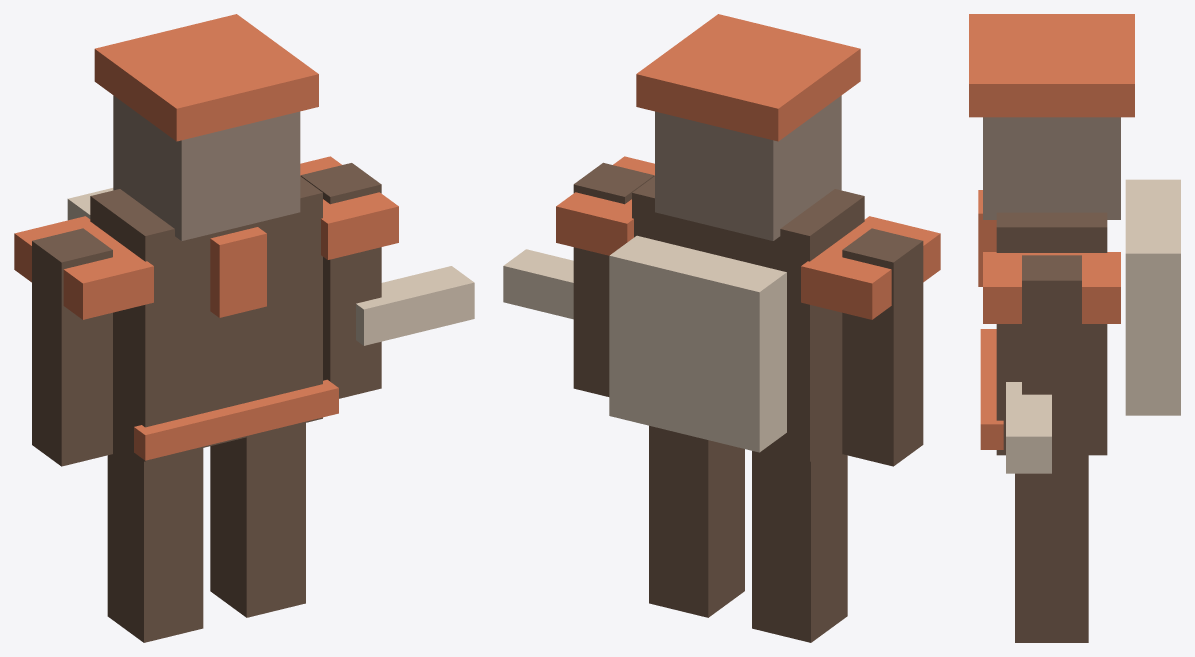
Rendered from 05_kael_gearmantle_captain_at_redcliff.glb.
3 renders of one model, left to right at view 1: azimuth 30°, elevation 25°; view 2: azimuth 150°, elevation 25°; view 3: azimuth 270°, elevation 25°, orthographic.
Visible parts, largest first — view 1: Kael Gearmantle, Captain at Redcliff; view 2: Kael Gearmantle, Captain at Redcliff; view 3: Kael Gearmantle, Captain at Redcliff.
Part boxes in pixels (box(x1,y1,x2,y2)): Kael Gearmantle, Captain at Redcliff: box(14, 14, 474, 642); Kael Gearmantle, Captain at Redcliff: box(503, 14, 940, 642); Kael Gearmantle, Captain at Redcliff: box(969, 14, 1180, 642).
Size of the model in its own units: 1.08 by 1.4 by 0.485.
